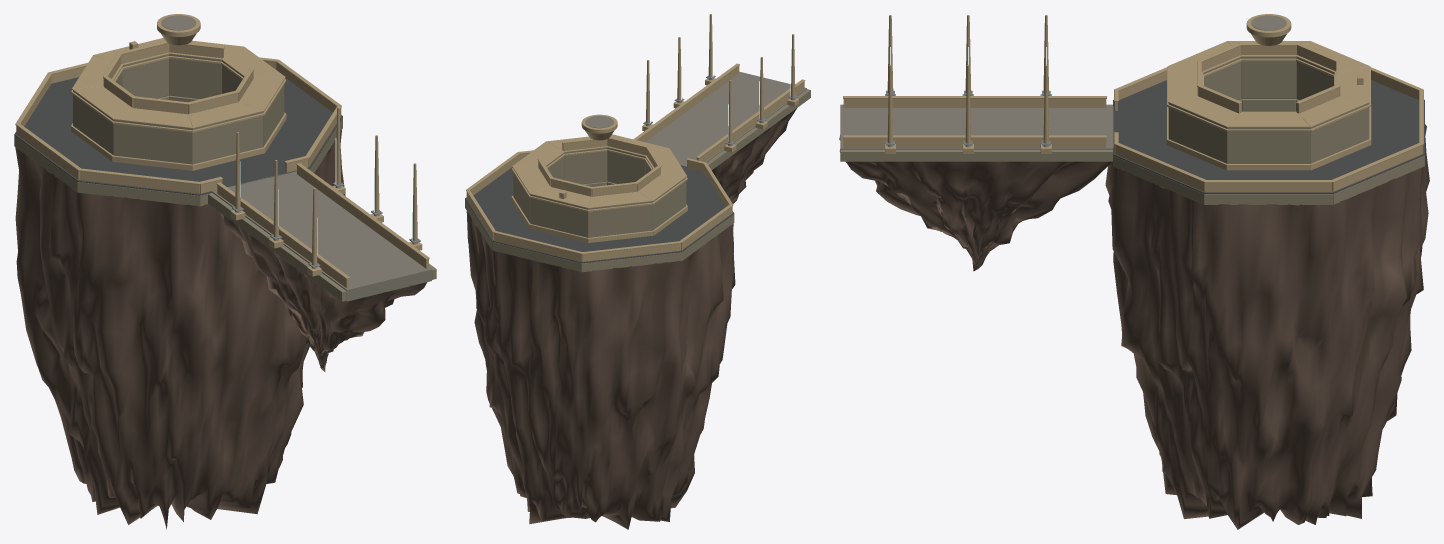
The model's file is f_heart.glb.
The picture shows the model from 3 angles, left to right: view 1: azimuth 30°, elevation 25°; view 2: azimuth 150°, elevation 25°; view 3: azimuth 270°, elevation 25°; orthographic projection. The views are drawn at different scales.
Parts seen in each view (by area): view 1: island_f_heart; view 2: island_f_heart; view 3: island_f_heart.
Boxes of the visible parts, box(x1,y1,x2,y2) form: island_f_heart: box(14, 14, 436, 529); island_f_heart: box(465, 14, 810, 529); island_f_heart: box(839, 14, 1429, 529).
Bounding box in the file's own units: 29.63 × 48.06 × 53.07.
